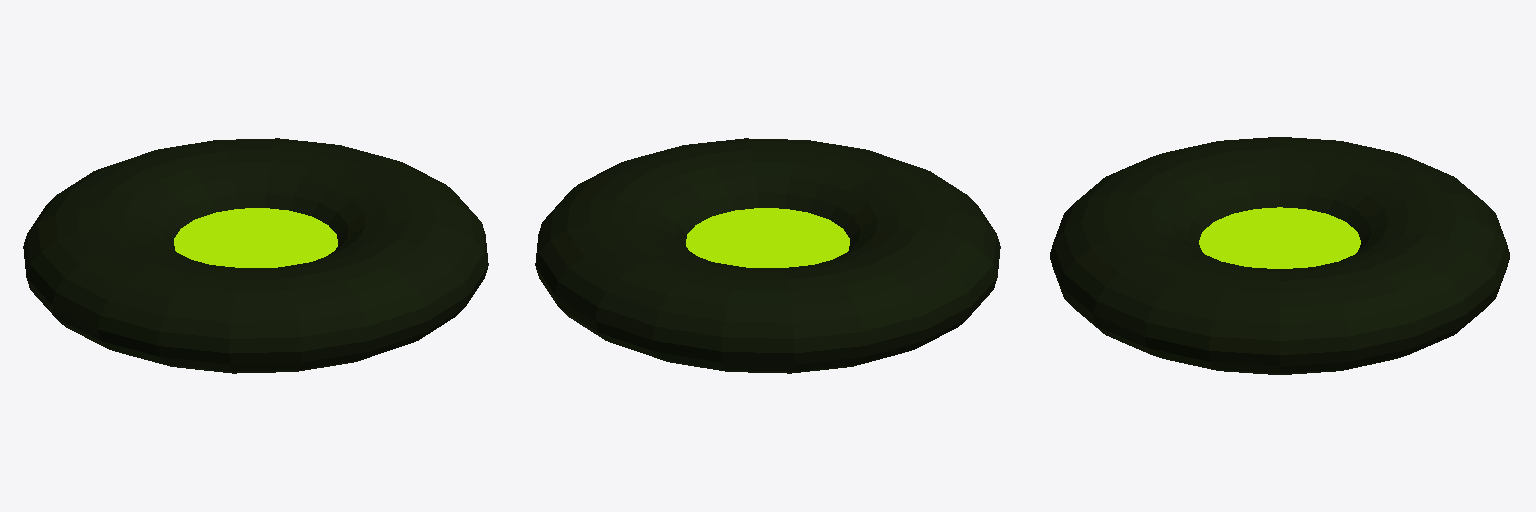
File: ventanaCirc.obj
3 renders of one model, left to right at view 1: azimuth 30°, elevation 25°; view 2: azimuth 150°, elevation 25°; view 3: azimuth 270°, elevation 25°, orthographic.
Parts seen in each view (by area): view 1: pTorus1, pCylinder1; view 2: pTorus1, pCylinder1; view 3: pTorus1, pCylinder1.
Part boxes in pixels (left/top/right/bottom): pTorus1: left=23, top=138, right=488, bottom=373; pCylinder1: left=174, top=208, right=337, bottom=267; pTorus1: left=535, top=138, right=1000, bottom=373; pCylinder1: left=686, top=208, right=849, bottom=267; pTorus1: left=1050, top=137, right=1509, bottom=374; pCylinder1: left=1199, top=207, right=1360, bottom=268.
Size of the model in its own units: 1.45 by 0.2813 by 1.42.